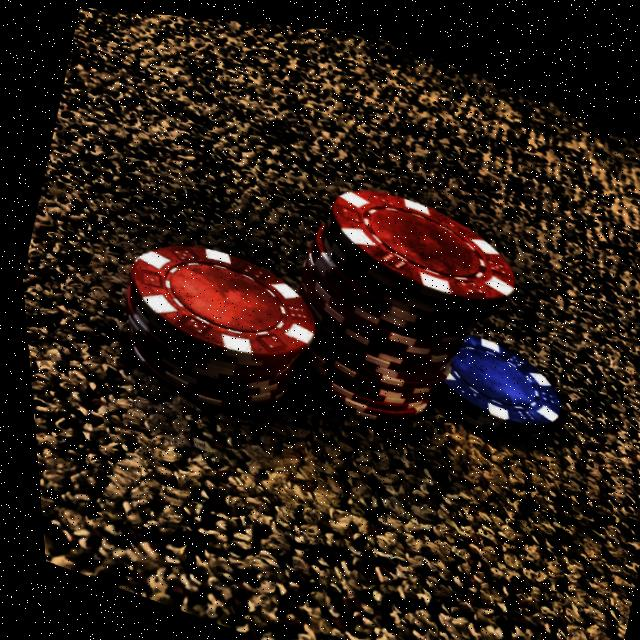Chip: (259, 157, 535, 459), (94, 215, 330, 435), (410, 311, 573, 451)
